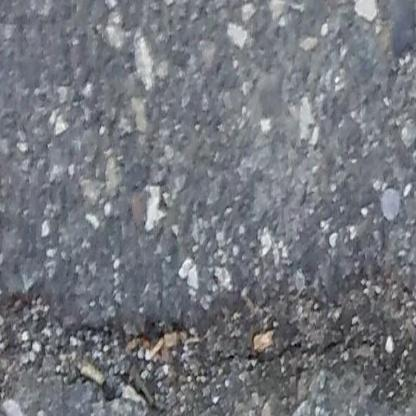Cracks: (0, 276, 416, 416)
